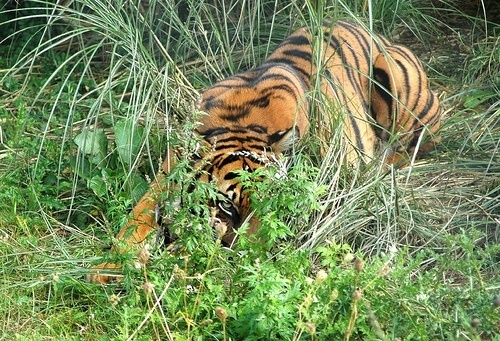tigre: (83, 16, 444, 289)
